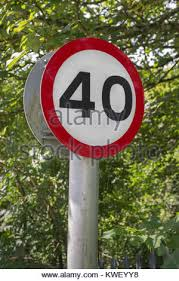Speed_limit_40km: (42, 37, 144, 156)
